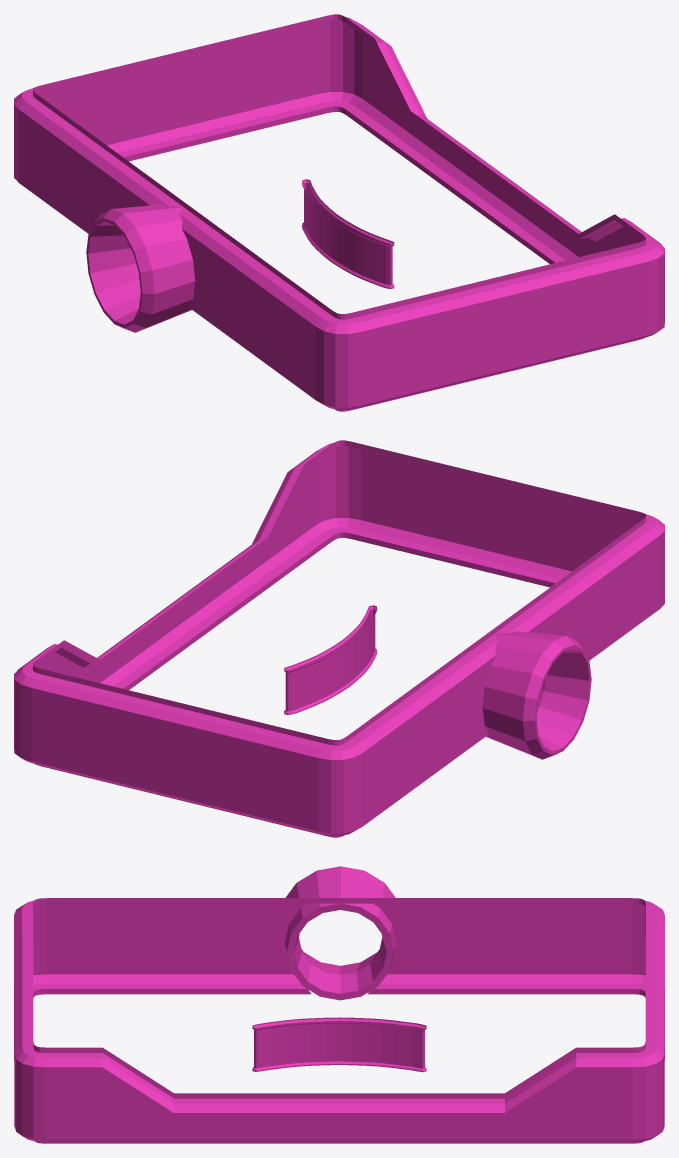
File: NewCol_SmallBuildingInterior.fbx
3 views of the same model, one above another, from view 1: azimuth 30°, elevation 25°; view 2: azimuth 150°, elevation 25°; view 3: azimuth 270°, elevation 25° (orthographic).
Parts seen in each view (by area): view 1: Cube.001; view 2: Cube.001; view 3: Cube.001.
Boxes of the visible parts, left/top/right/bottom form: Cube.001: left=14, top=14, right=664, bottom=411; Cube.001: left=14, top=440, right=664, bottom=837; Cube.001: left=14, top=866, right=664, bottom=1143.
Size of the model in its own units: 8022 by 2219 by 11565.
